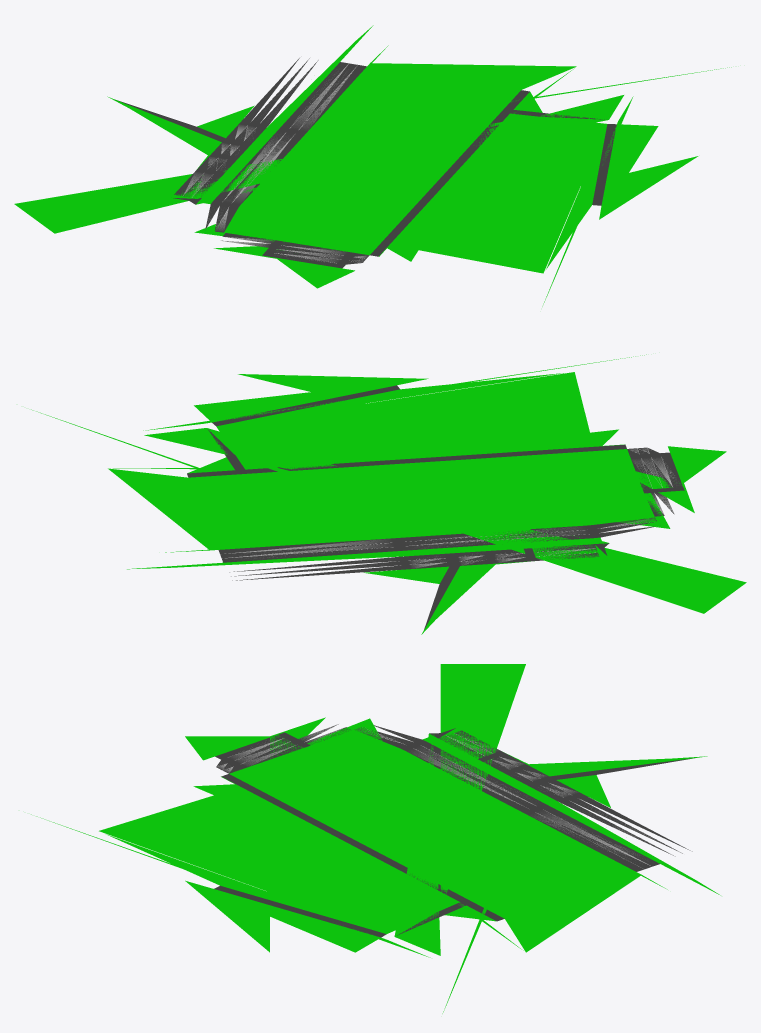
3 views of the same model, one above another, from view 1: azimuth 30°, elevation 25°; view 2: azimuth 150°, elevation 25°; view 3: azimuth 270°, elevation 25° (orthographic). The views are drawn at different scales.
Bounding box in the file's own units: 295 × 0.001 × 258.
